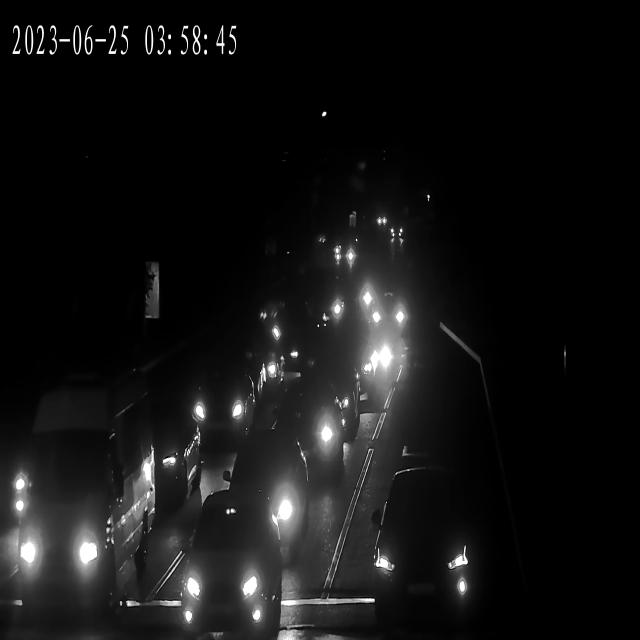Car: (17, 379, 148, 619), (175, 512, 279, 635), (372, 496, 476, 616), (228, 433, 308, 562), (274, 383, 355, 481), (137, 406, 207, 518), (180, 370, 251, 443), (258, 307, 329, 372), (342, 340, 391, 415), (0, 443, 38, 535), (260, 307, 328, 352), (362, 295, 412, 336), (332, 245, 358, 268), (384, 223, 405, 240), (386, 226, 405, 242), (372, 213, 389, 229), (368, 214, 386, 228), (294, 332, 296, 333)
